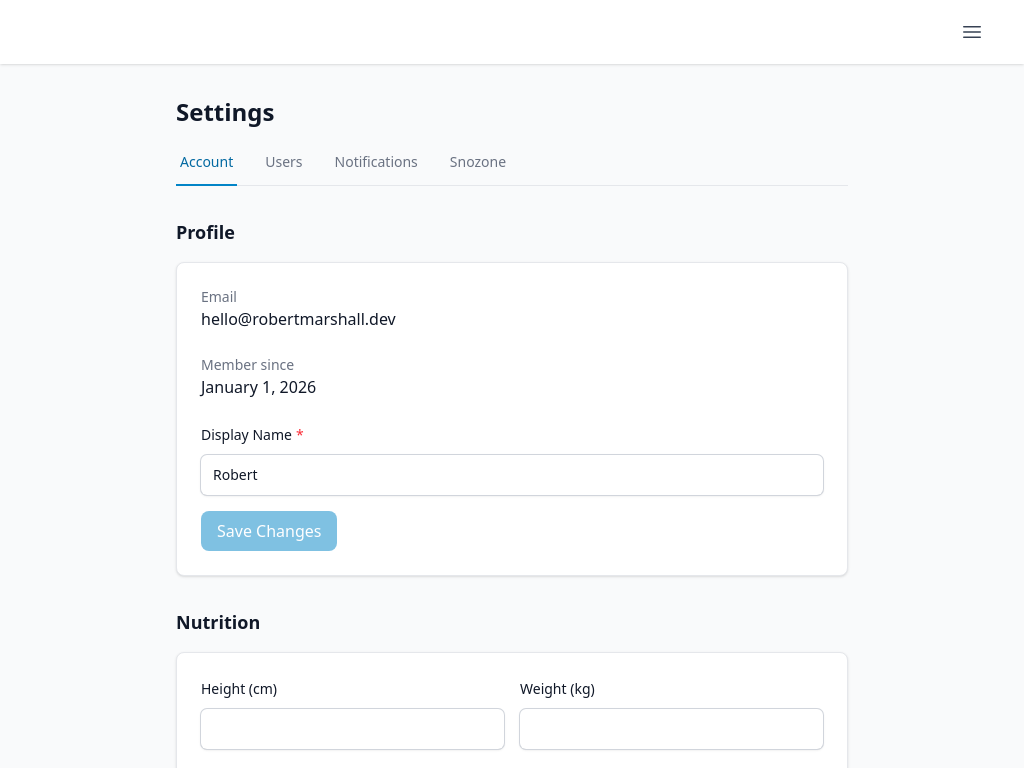
it: SettingsPage - admin tabs › switches to the Users tab and lists accounts
This screenshot has width=1024, height=768.
Click the button "Users" at [284, 169], box 261,152 -> 306,186
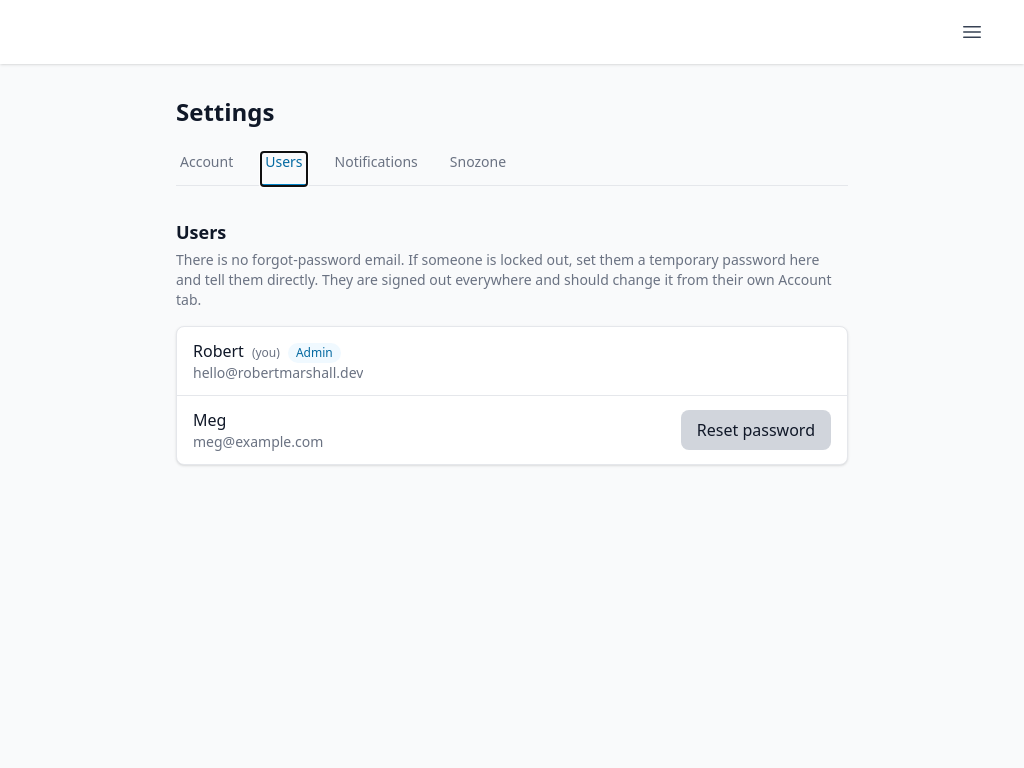
Result: the heading "Users" is shown at 176,220 -> 226,244
Result: the text "meg@example.com" is shown at 193,432 -> 323,452
Result: the button with aria-label "Reset password for Meg" is shown at 681,410 -> 831,450
